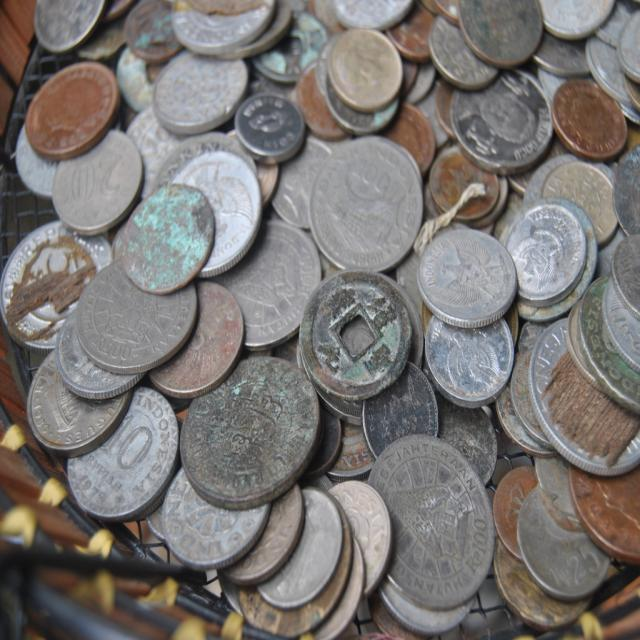Coin: (0, 0, 640, 639), (418, 219, 519, 320)
